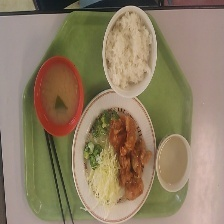rice: (103, 6, 155, 89)
